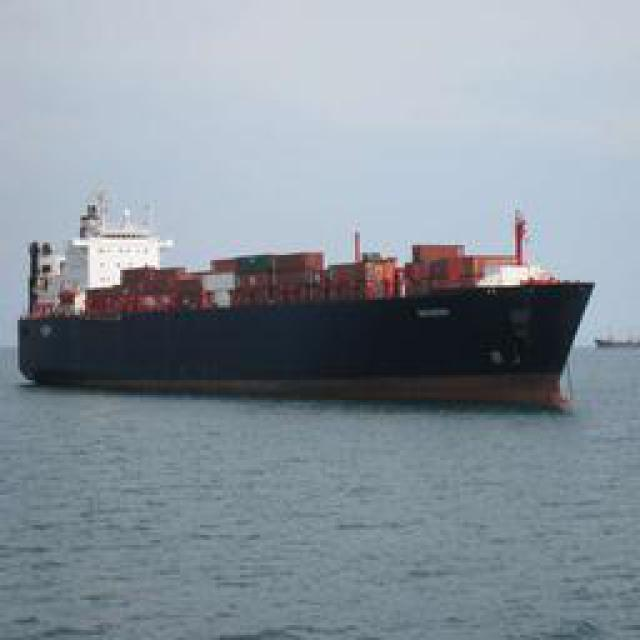Ship: (13, 180, 598, 405)
